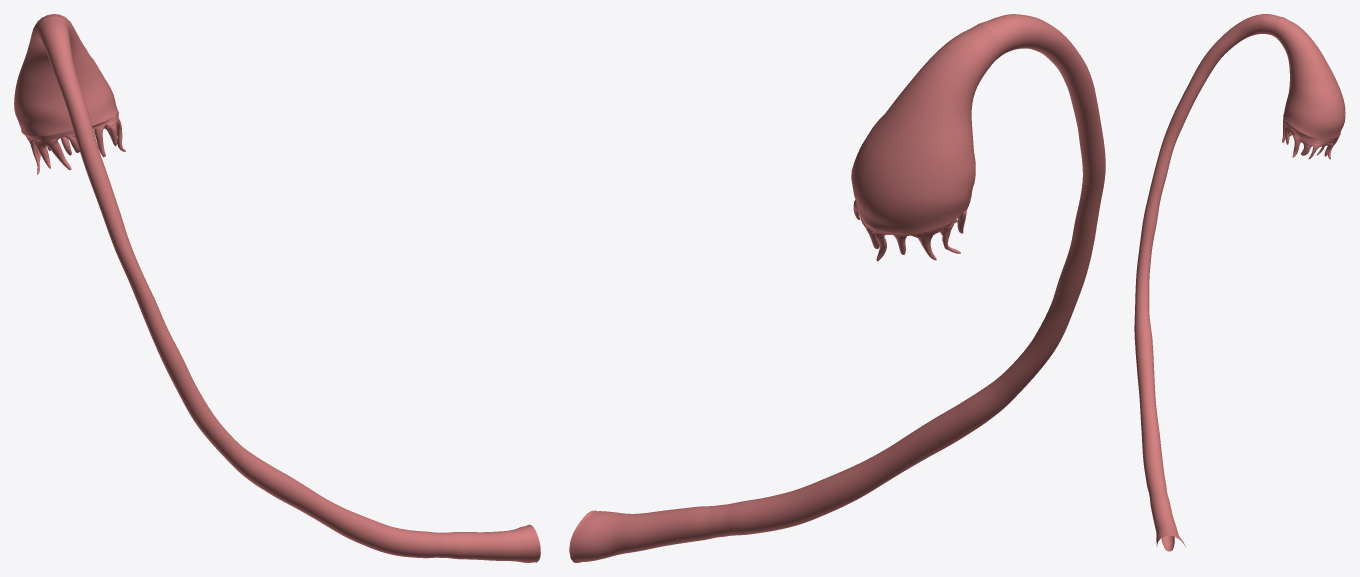
The model's file is 3d-vh-f-fallopian-tube-r.glb.
3 renders of one model, left to right at view 1: azimuth 30°, elevation 25°; view 2: azimuth 150°, elevation 25°; view 3: azimuth 270°, elevation 25°, orthographic. The views are drawn at different scales.
Visible parts, largest first — view 1: VH_F_ampulla_of_uterine_tube_R, VH_F_uterine_tube_infundibulum_R, VH_F_isthmus_of_fallopian_tube_R, VH_F_fibria_of_uterine_tube_R; view 2: VH_F_ampulla_of_uterine_tube_R, VH_F_uterine_tube_infundibulum_R, VH_F_isthmus_of_fallopian_tube_R, VH_F_fibria_of_uterine_tube_R; view 3: VH_F_ampulla_of_uterine_tube_R, VH_F_uterine_tube_infundibulum_R, VH_F_isthmus_of_fallopian_tube_R, VH_F_fibria_of_uterine_tube_R.
Boxes of the visible parts, box(x1,y1,x2,y2) form: VH_F_ampulla_of_uterine_tube_R: box(37, 16, 450, 558); VH_F_uterine_tube_infundibulum_R: box(14, 14, 118, 136); VH_F_isthmus_of_fallopian_tube_R: box(442, 524, 540, 562); VH_F_fibria_of_uterine_tube_R: box(22, 112, 125, 174); VH_F_ampulla_of_uterine_tube_R: box(715, 14, 1105, 536); VH_F_uterine_tube_infundibulum_R: box(851, 23, 1001, 233); VH_F_isthmus_of_fallopian_tube_R: box(569, 505, 722, 562); VH_F_fibria_of_uterine_tube_R: box(853, 200, 967, 261); VH_F_ampulla_of_uterine_tube_R: box(1134, 14, 1283, 493); VH_F_uterine_tube_infundibulum_R: box(1273, 17, 1345, 139); VH_F_isthmus_of_fallopian_tube_R: box(1149, 488, 1185, 551); VH_F_fibria_of_uterine_tube_R: box(1282, 117, 1339, 159).
Size of the model in its own units: 0.0344 by 0.0446 by 0.0209.
